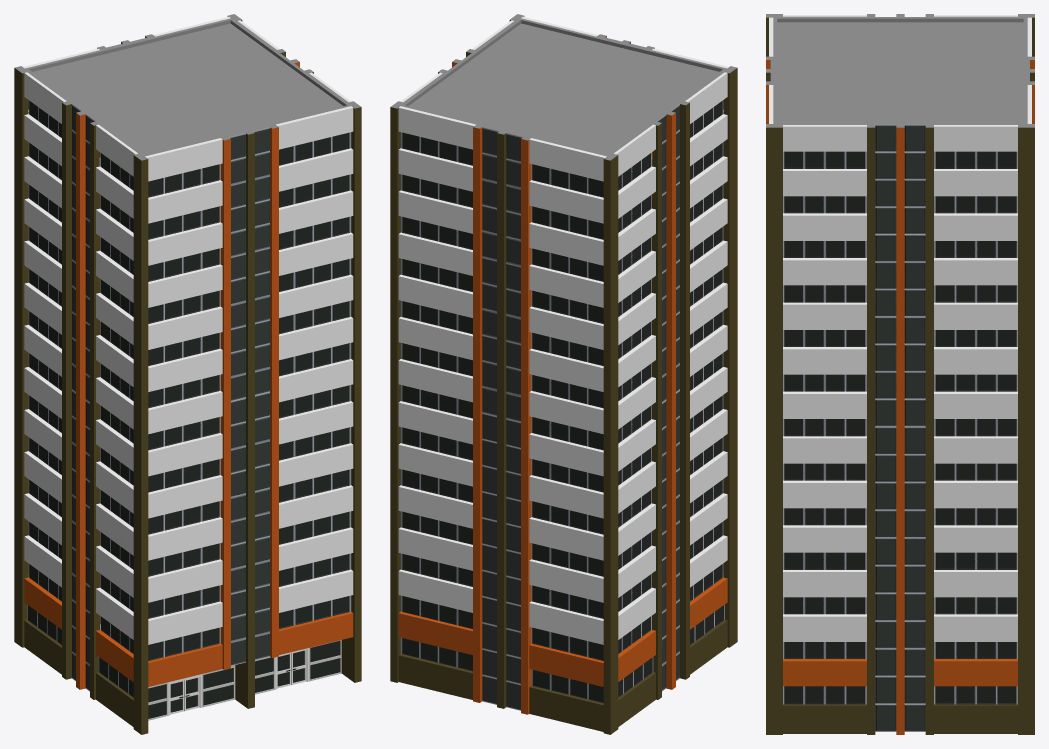
3 views of the same model, side by side, from view 1: azimuth 30°, elevation 25°; view 2: azimuth 150°, elevation 25°; view 3: azimuth 270°, elevation 25° (orthographic). The views are drawn at different scales.
Parts seen in each view (by area): view 1: BB-03; view 2: BB-03; view 3: BB-03.
Part boxes in pixels (<box>): BB-03: <box>14,14,361,734</box>; BB-03: <box>390,14,737,734</box>; BB-03: <box>766,14,1034,734</box>.
Size of what is drawn, in the model's own units: 16.4 by 40.9 by 16.4.
